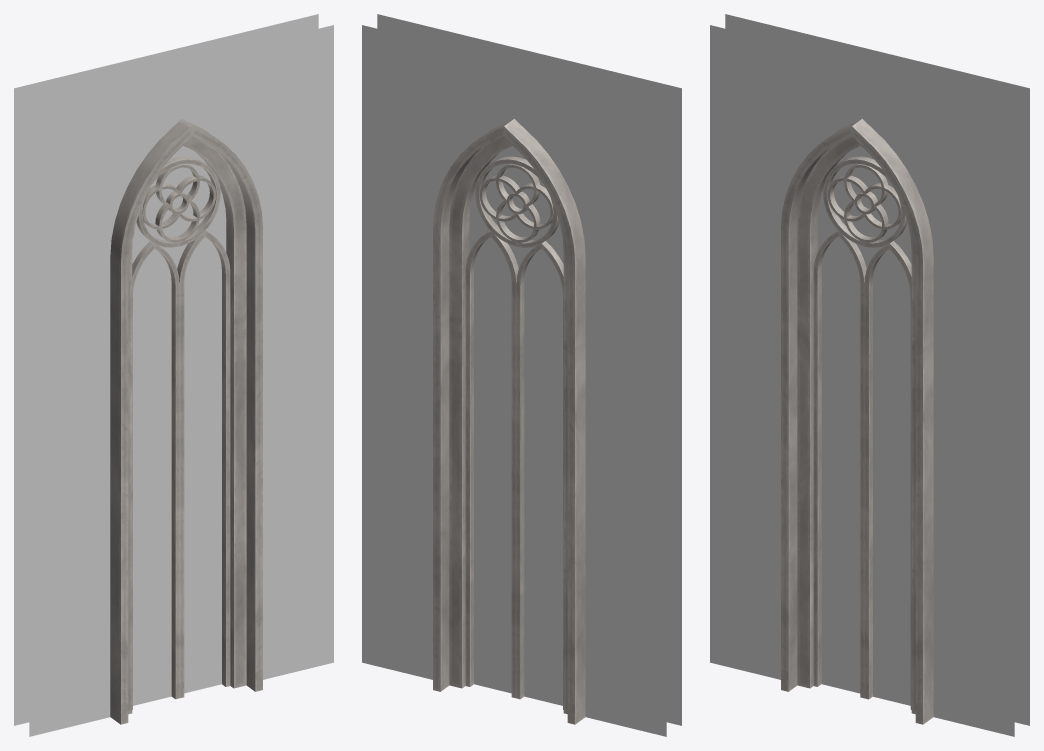
Rendered from Wall_Window_A_C.fbx.
3 views of the same model, side by side, from view 1: azimuth 30°, elevation 25°; view 2: azimuth 150°, elevation 25°; view 3: azimuth 330°, elevation 25° (orthographic).
Visible parts, largest first — view 1: Wall_Window_A_C; view 2: Wall_Window_A_C; view 3: Wall_Window_A_C.
Part boxes in pixels (x1,y1,x2,y2): Wall_Window_A_C: (14,14,333,736); Wall_Window_A_C: (362,14,681,736); Wall_Window_A_C: (710,14,1029,736).
Size of the model in its own units: 3 by 0.6115 by 6.
